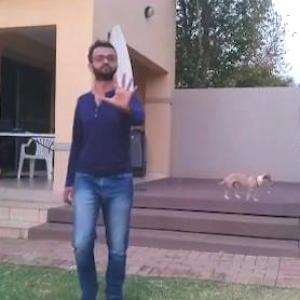follow_hand: (99, 65, 142, 115)
